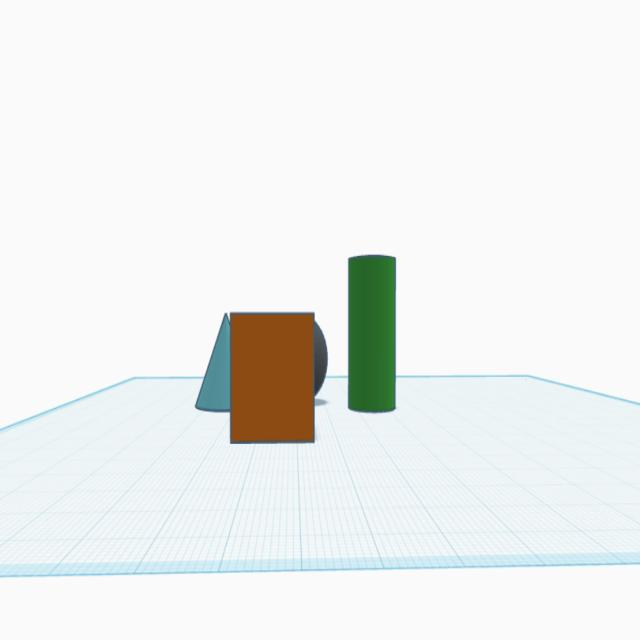cube: (226, 306, 317, 449)
